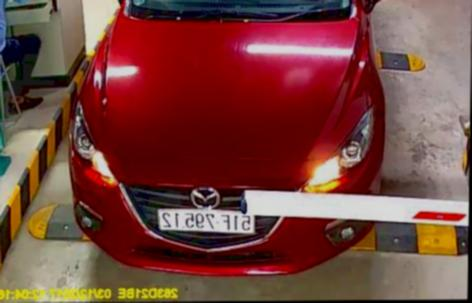License_Plate: (154, 207, 259, 236)
